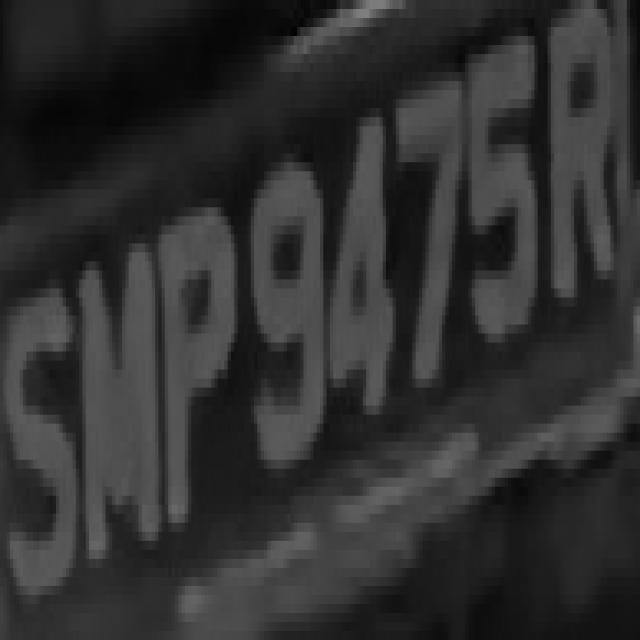4: (304, 63, 389, 478)
5: (462, 36, 534, 370)
7: (386, 36, 468, 442)
9: (244, 126, 323, 496)
M: (76, 207, 158, 595)
P: (145, 189, 238, 559)
R: (541, 0, 620, 334)
S: (0, 252, 79, 631)
